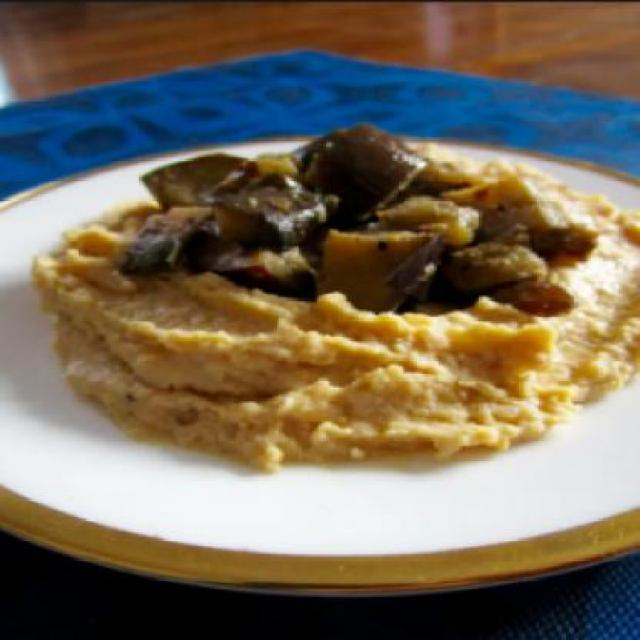eggplant: (135, 150, 556, 302)
hummus: (47, 130, 638, 472)
